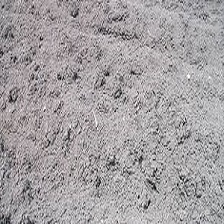clay_soil: (5, 28, 220, 201)
